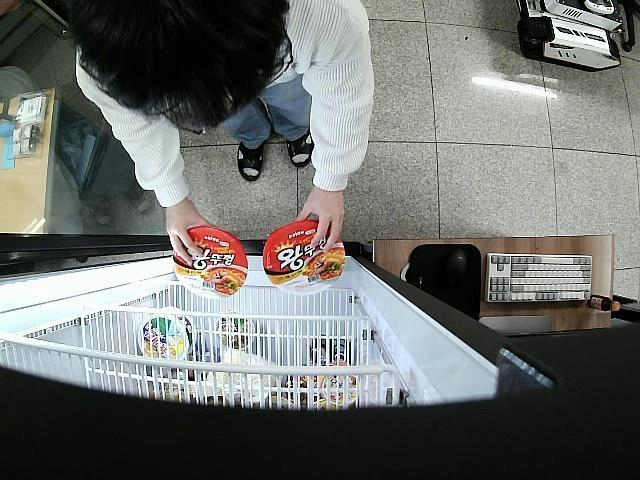10_wangTtukkeong: (264, 219, 346, 296), (173, 228, 248, 300)
